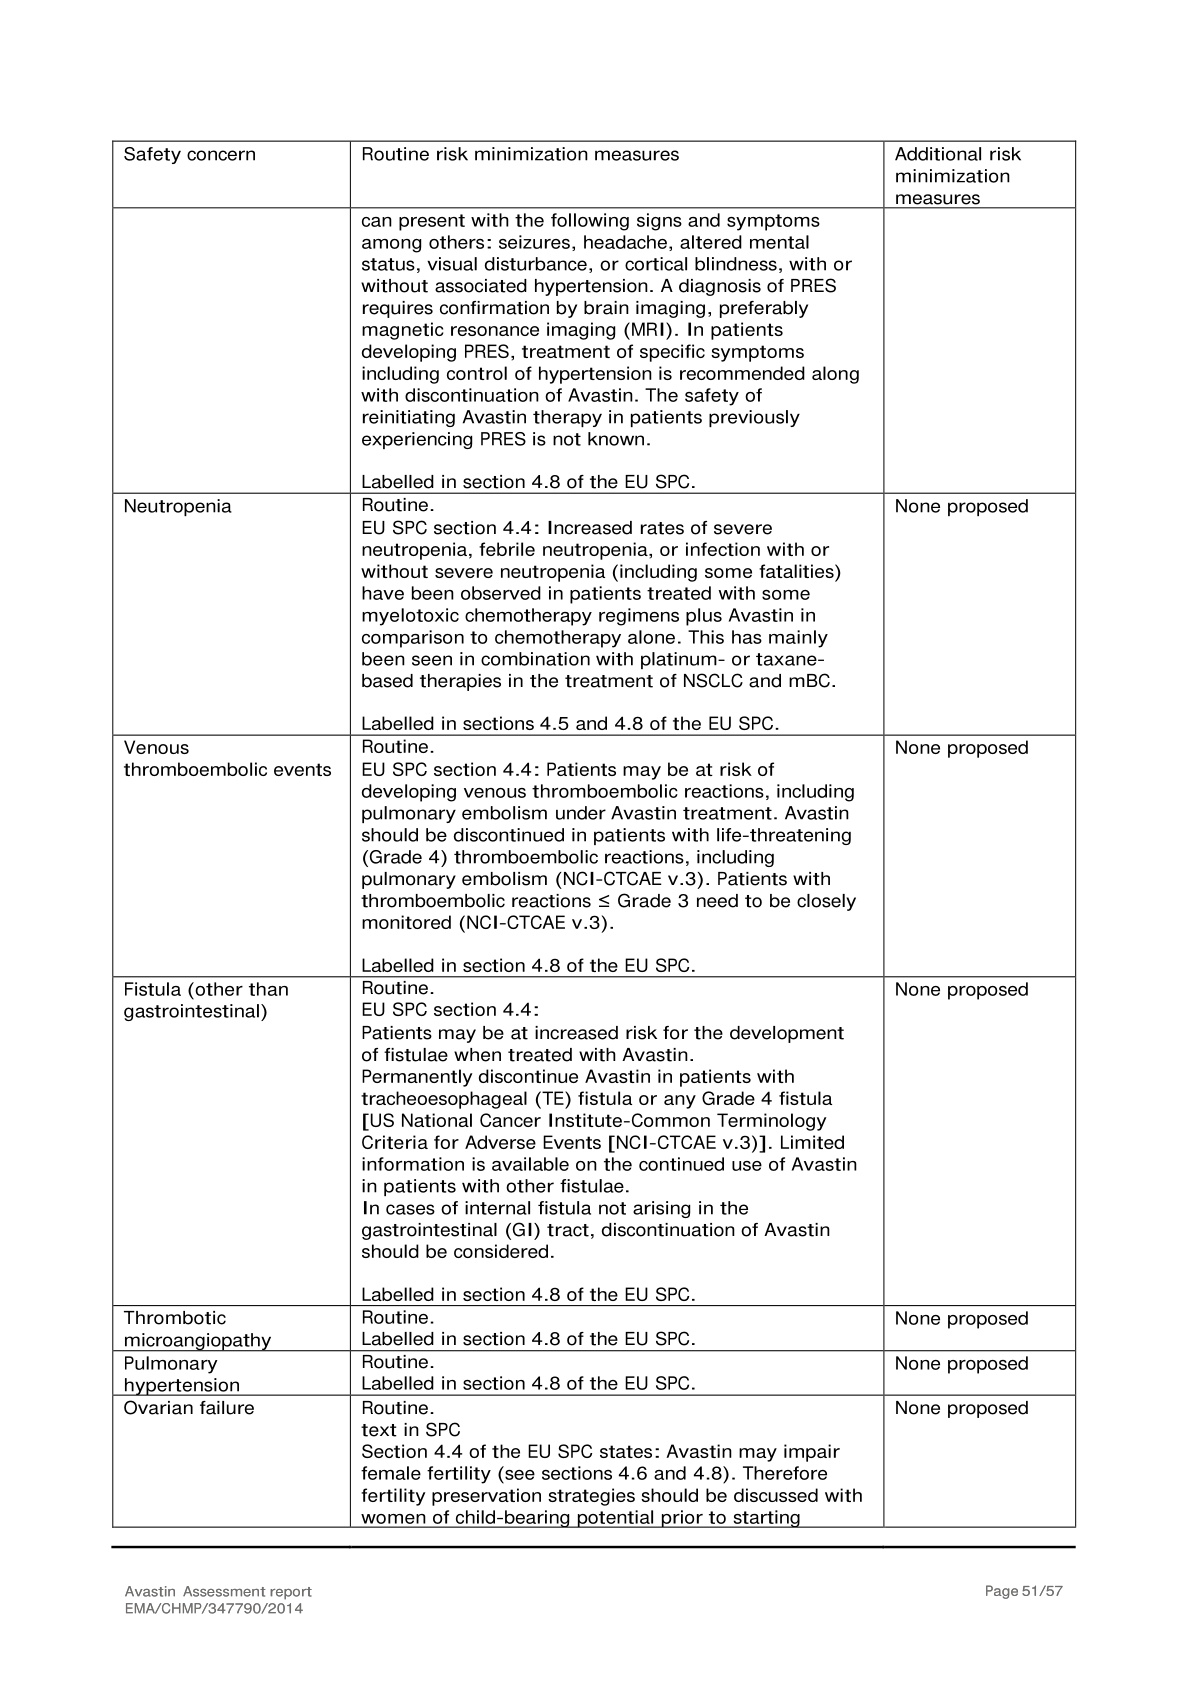full_lined: (111, 139, 1077, 1529)
